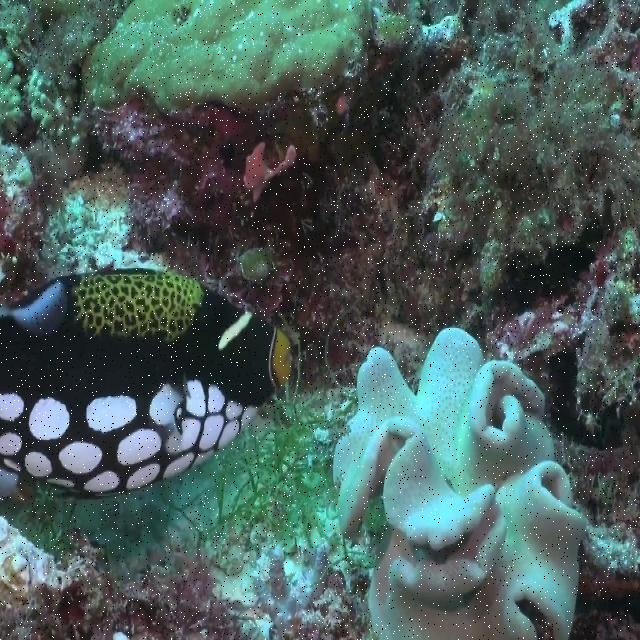fish: (0, 269, 291, 499)
reefs: (334, 326, 587, 639), (78, 0, 371, 114)
